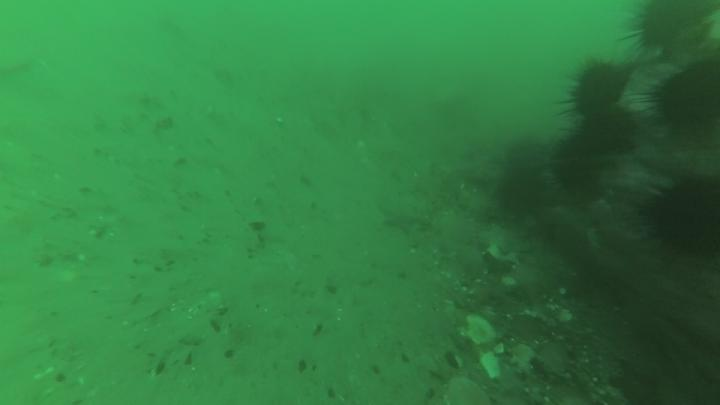echinus: (646, 174, 720, 262), (655, 63, 720, 137), (637, 2, 719, 51), (495, 147, 552, 212), (571, 62, 626, 118), (572, 114, 641, 155), (553, 157, 606, 195)
